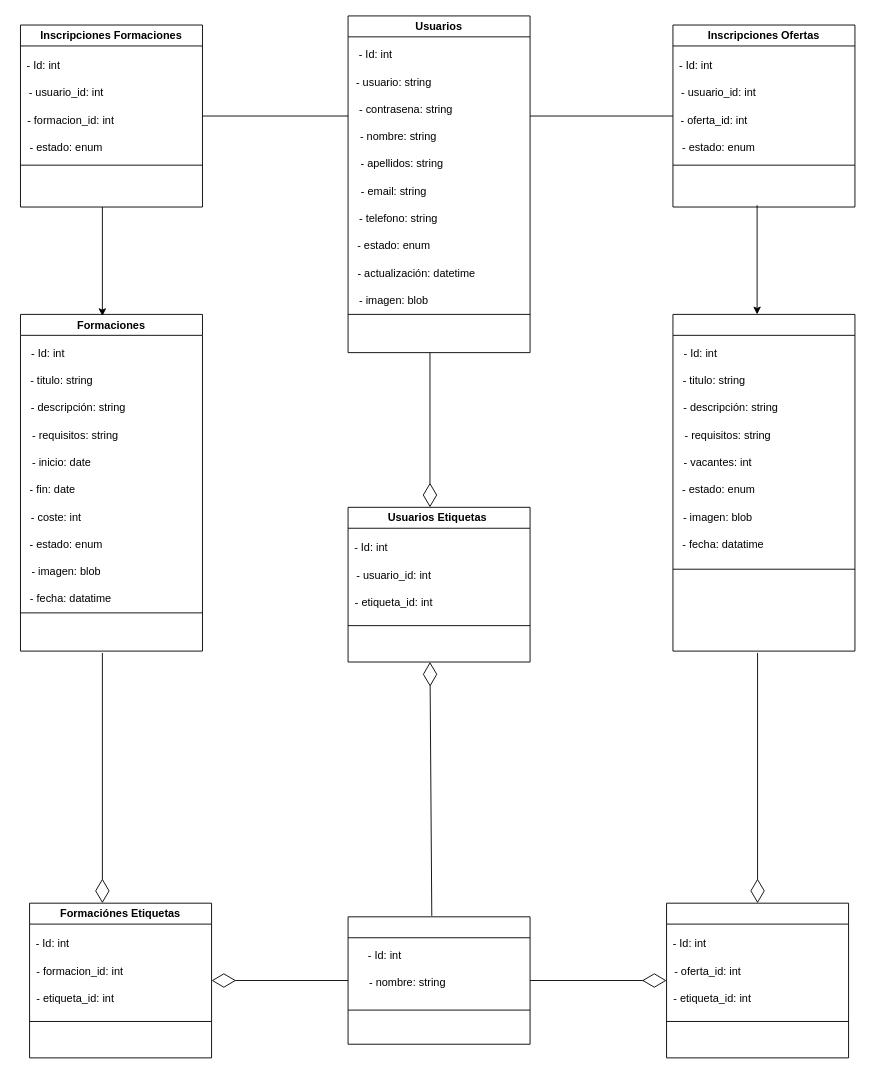
Image size: 872x1074. Some labels were removed from this diagram. Here are the shapes that lost their labels. From the top down, the box of each, then its label:
(672, 313, 855, 651): Ofertas
(347, 916, 530, 1044): Etiquetas
(666, 902, 849, 1058): Ofertas Etiquetas
